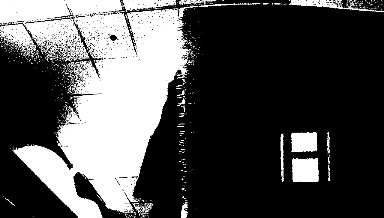H: (279, 131, 329, 181)
